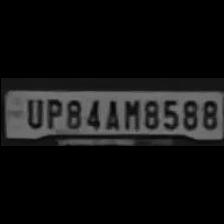4: (82, 96, 102, 130)
5: (158, 97, 180, 129)
8: (178, 96, 200, 130), (197, 97, 219, 131), (62, 96, 82, 130), (140, 97, 160, 129)
A: (101, 96, 119, 130)
M: (120, 96, 140, 130)
P: (42, 96, 62, 130)
U: (21, 94, 43, 128)
